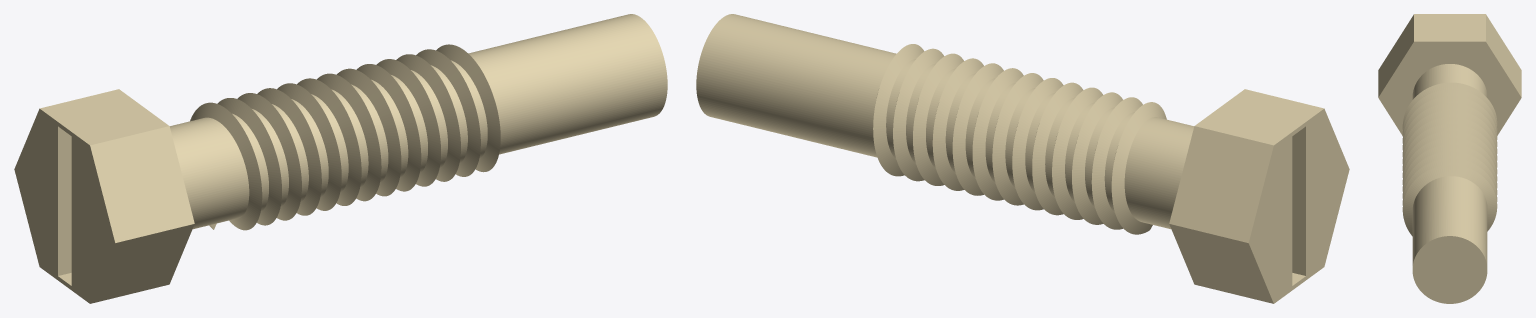
The model's file is throttle-idle-stop-screw-illustrative.glb.
3 renders of one model, left to right at view 1: azimuth 30°, elevation 25°; view 2: azimuth 150°, elevation 25°; view 3: azimuth 270°, elevation 25°, orthographic. The views are drawn at different scales.
Visible parts, largest first — view 1: world; view 2: world; view 3: world.
Boxes of the visible parts, x1,y1,x2,y2 form: world: (14,14,667,303); world: (696,14,1349,303); world: (1378,14,1521,303).
Size of the model in its own units: 0.0145 by 0.00381 by 0.0044.
